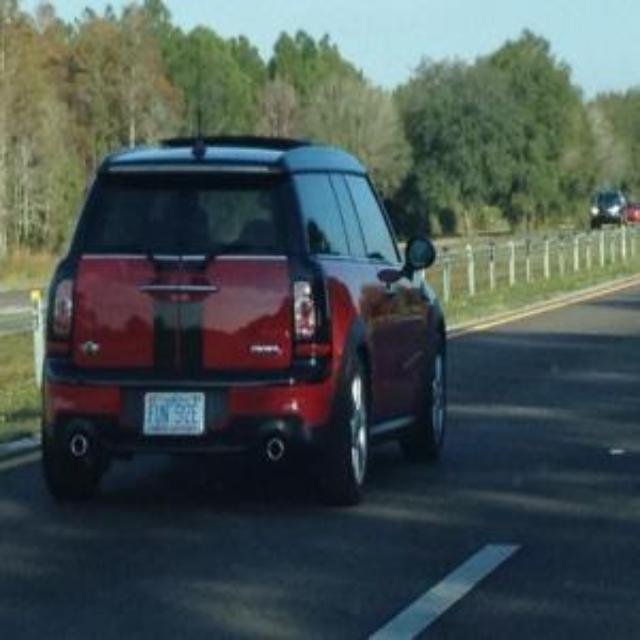License Plate: (145, 394, 206, 434)
